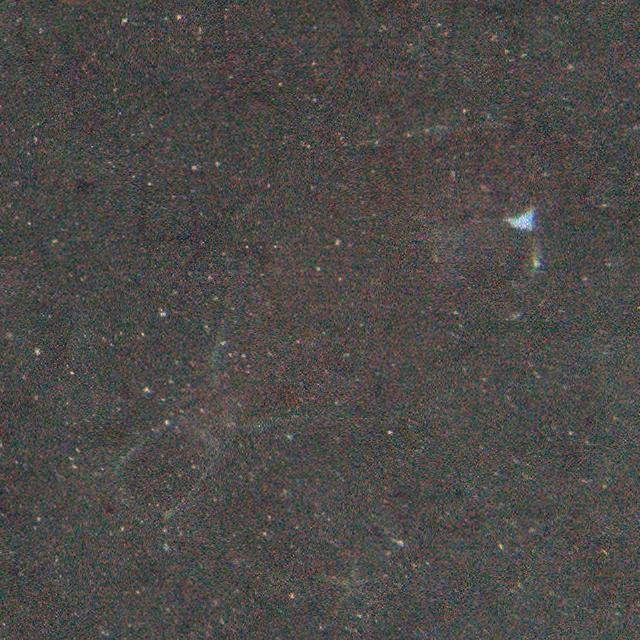flatfish: (118, 126, 540, 516)
